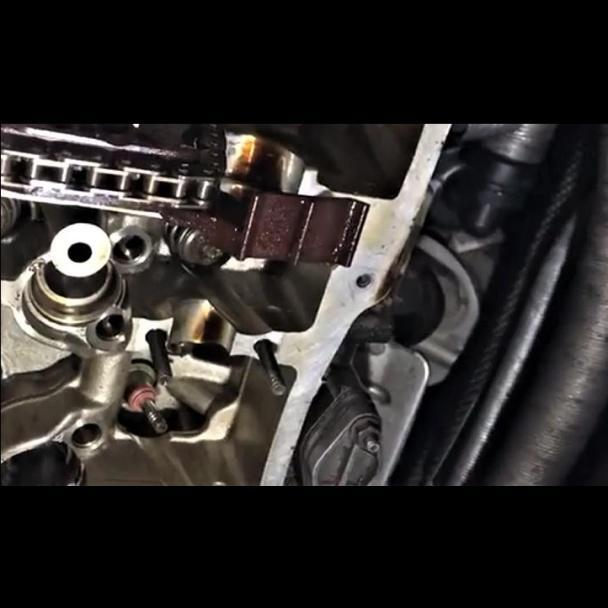hole: (354, 272, 370, 288)
